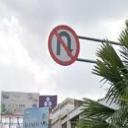NoVirarU: (50, 25, 79, 64)
